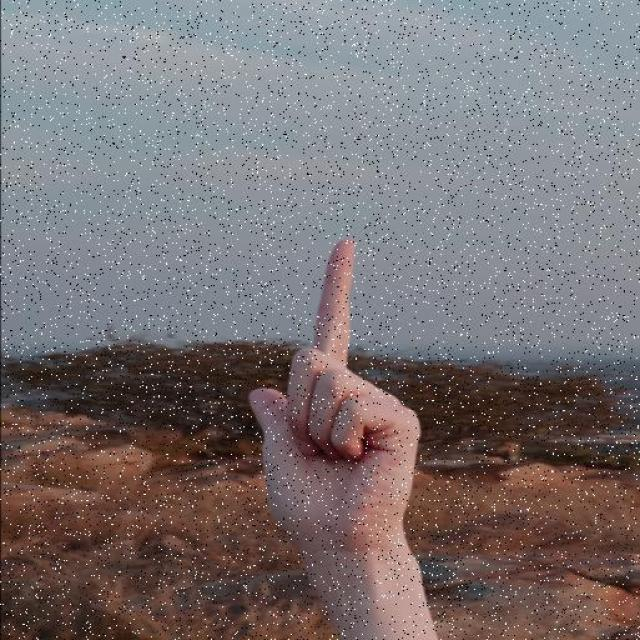L: (246, 235, 423, 544)
